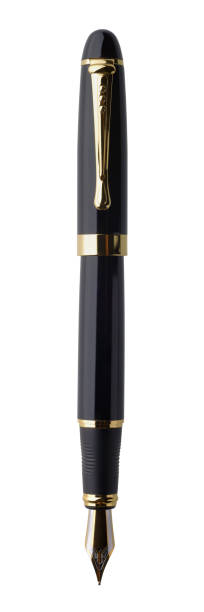pen: (61, 21, 146, 586)
